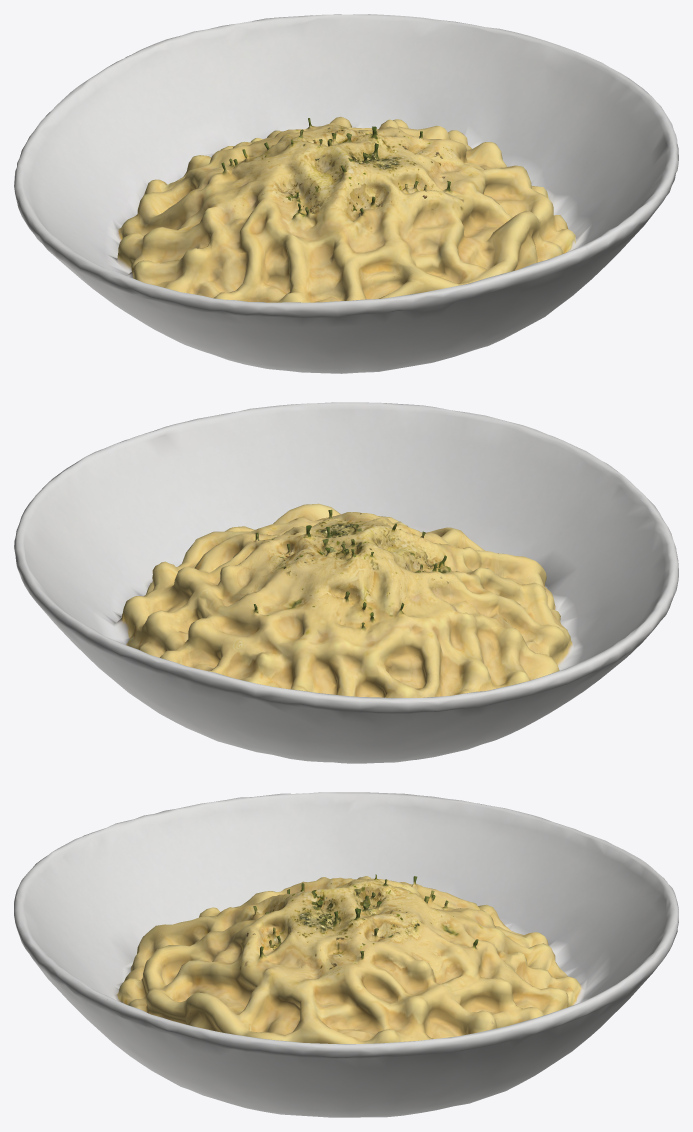
Rendered from fettuccini_alfredo.fbx.
The picture shows the model from 3 angles, top to bottom: view 1: azimuth 30°, elevation 25°; view 2: azimuth 150°, elevation 25°; view 3: azimuth 270°, elevation 25°; orthographic projection.
Parts seen in each view (by area): view 1: meshes[0]; view 2: meshes[0]; view 3: meshes[0].
Part boxes in pixels (x1,y1,x2,y2): meshes[0]: [14, 14, 678, 373]; meshes[0]: [14, 402, 678, 763]; meshes[0]: [14, 792, 678, 1117].
Size of the model in its own units: 99.8 by 25.98 by 99.8.
Materials: 1 (1 with a texture image).
